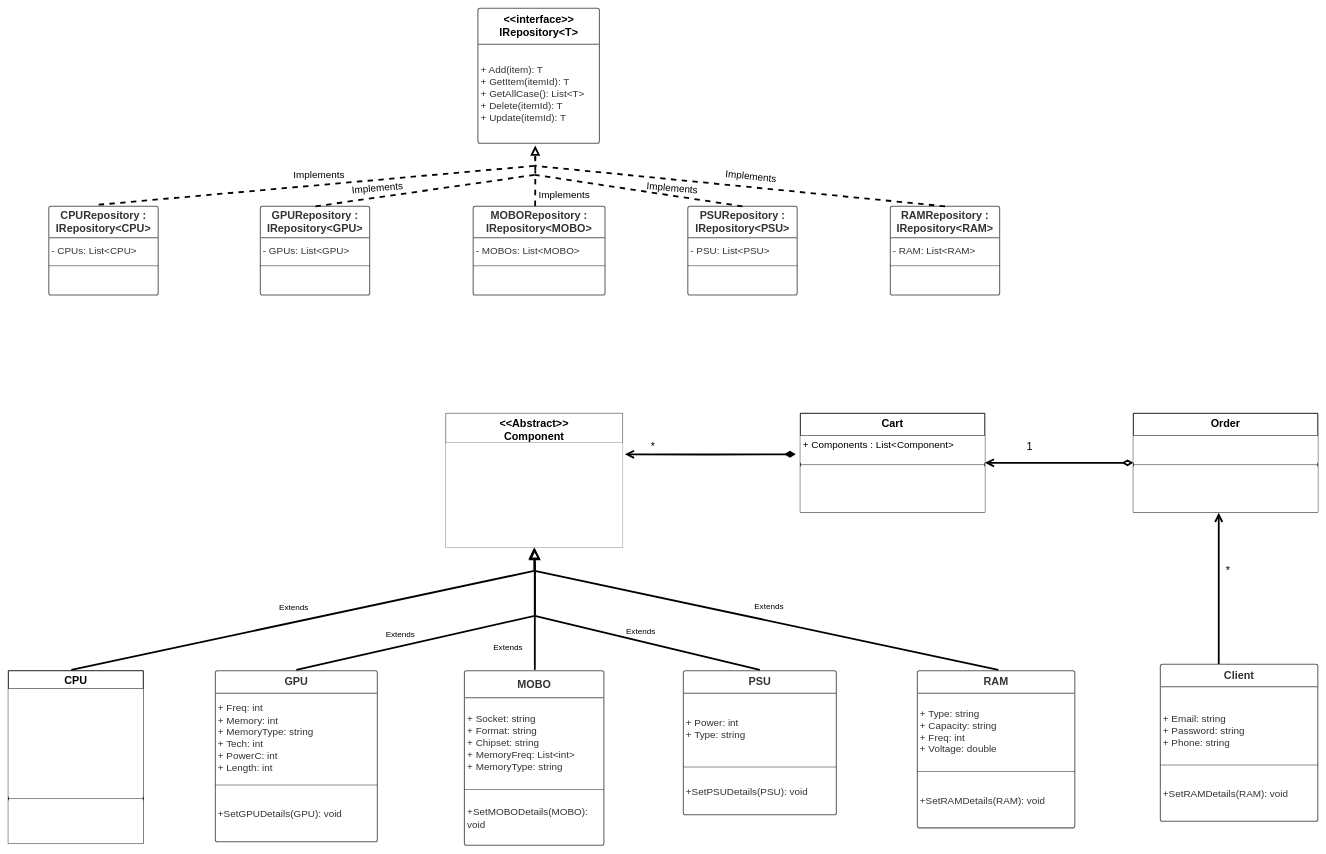
Some shapes in this 1326 by 854 pixel diagram are drawn without their labels. Each missing label, with the centre of its shape:
"+ Freq: int + Socket: string + Tech: int + MFreq: int + TDP: int + Cores: int" goes at point (75, 742).
"+ id: int + Make: string + Model: string" goes at point (534, 468).
"+ IDorder : int + Content : Cart" goes at point (1225, 449).
"+ sendOrder() : void" goes at point (892, 489).
"+ SetDetails(Component): Component" goes at point (534, 520).
"+ SetDetails(CPU): CPU" goes at point (75, 821).
